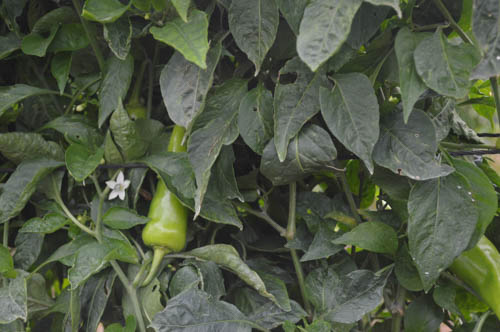ChiliPepper: (136, 126, 192, 257)
